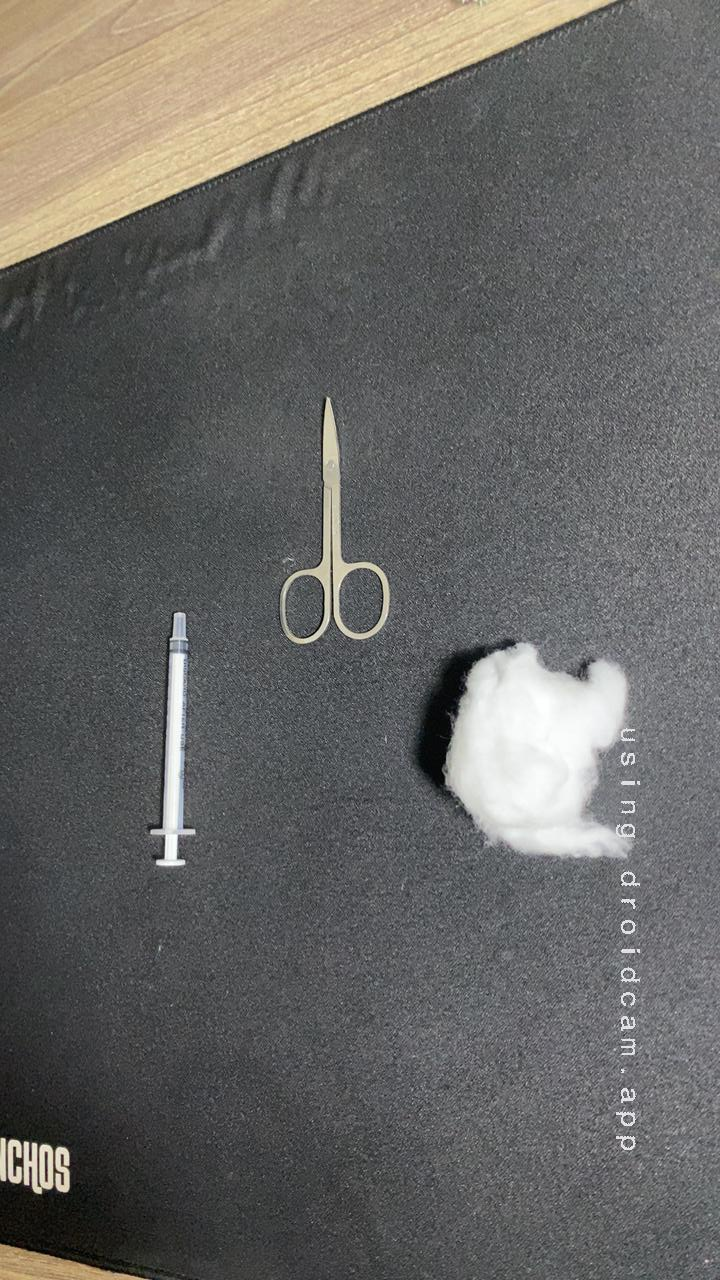cotton: (406, 627, 680, 878)
scissor: (261, 390, 407, 655)
syringe: (129, 597, 237, 880)
